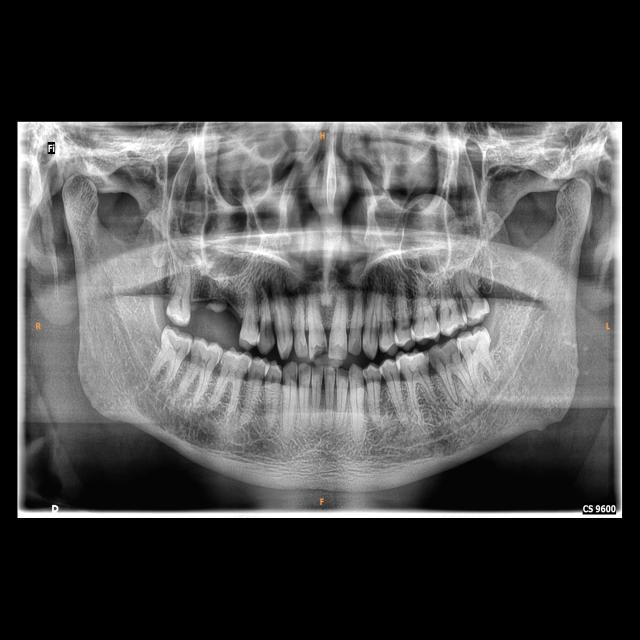dentin-curugu: (262, 322, 276, 346), (312, 343, 330, 361)
